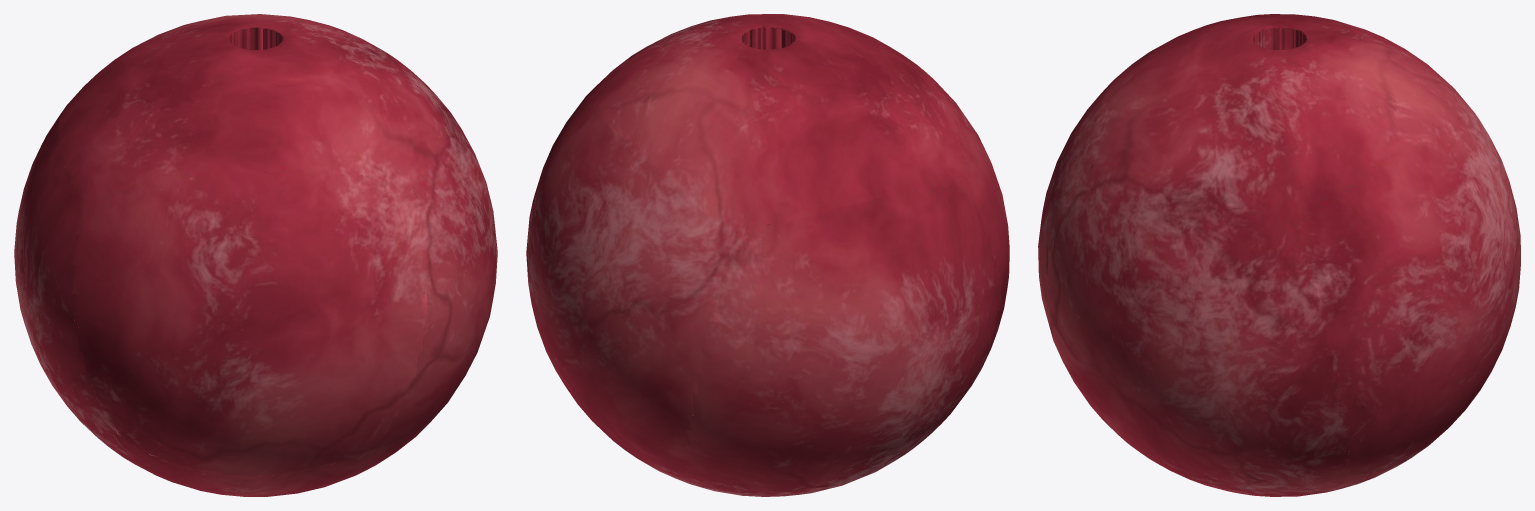
Rendered from stone-ruby.glb.
3 views of the same model, side by side, from view 1: azimuth 30°, elevation 25°; view 2: azimuth 150°, elevation 25°; view 3: azimuth 270°, elevation 25° (orthographic).
Visible parts, largest first — view 1: Bead_hi; view 2: Bead_hi; view 3: Bead_hi.
Part boxes in pixels (bbox=[...]): Bead_hi: bbox=[14, 14, 497, 496]; Bead_hi: bbox=[526, 14, 1009, 496]; Bead_hi: bbox=[1038, 14, 1520, 496].
Size of the model in its own units: 1 by 0.9939 by 0.9996.
Materials: 1 (1 with a texture image).
